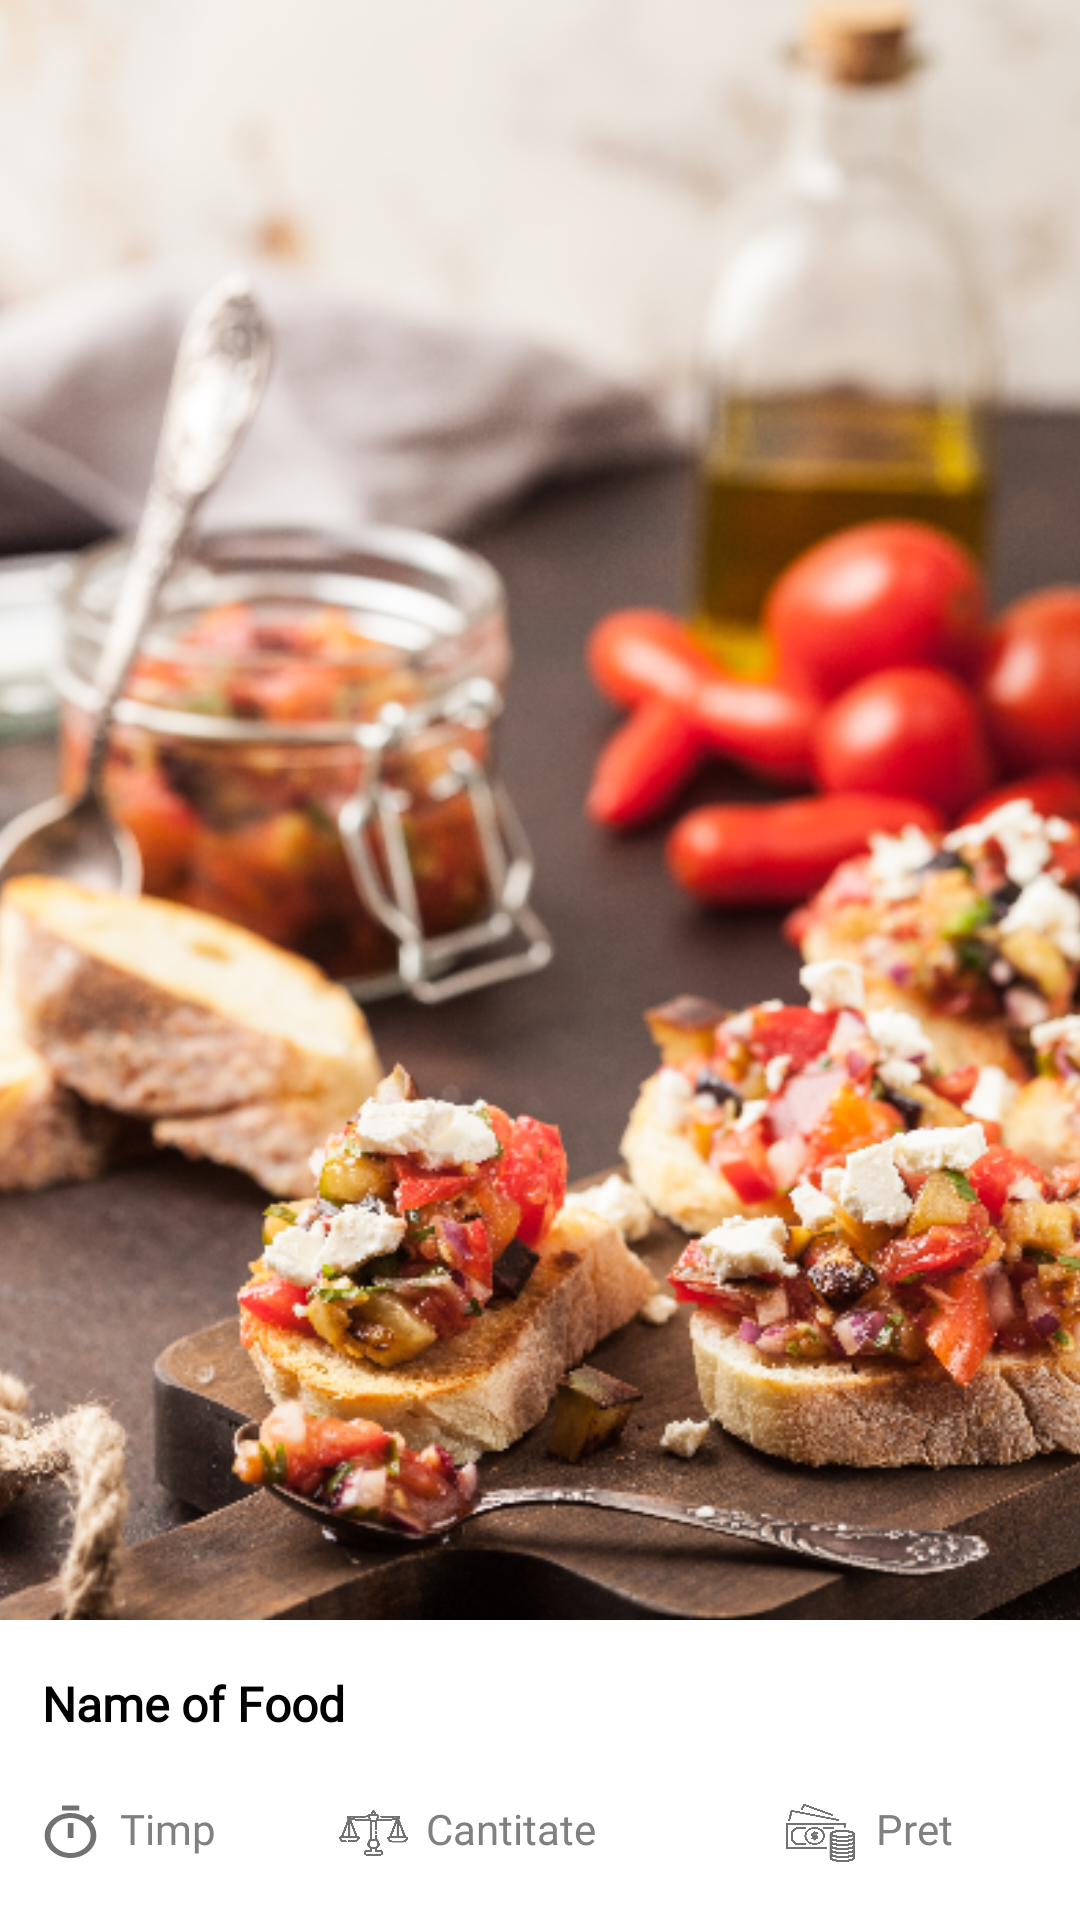

Where to tap for icons on this 1080x1920 app screen, as (x,y):
libra: (373,1833)
money: (820,1833)
timer: (70,1831)
